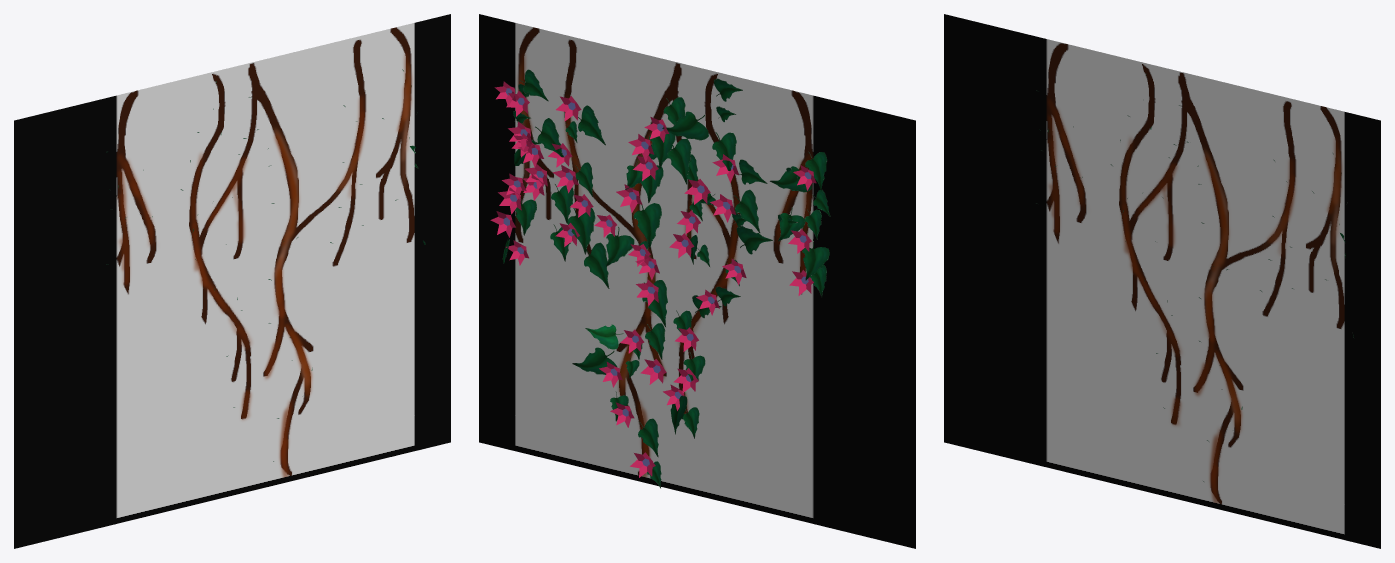
File: vine2.FBX
3 views of the same model, side by side, from view 1: azimuth 30°, elevation 25°; view 2: azimuth 150°, elevation 25°; view 3: azimuth 330°, elevation 25° (orthographic).
Visible parts, largest first — view 1: vine3; view 2: vine3; view 3: vine3.
Boxes of the visible parts, box(x1,y1,x2,y2) form: vine3: box(14, 14, 450, 548); vine3: box(479, 14, 915, 548); vine3: box(944, 14, 1380, 548).
Size of the model in its own units: 4.13 by 3.87 by 0.1996.
